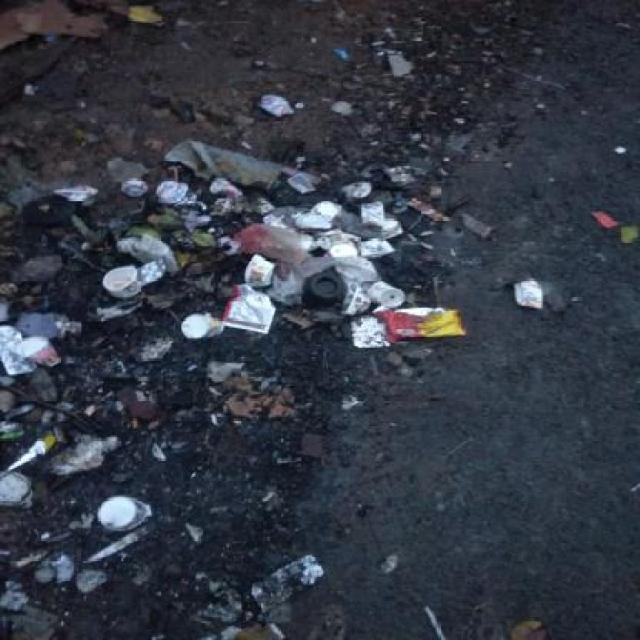garbage: (60, 86, 438, 380), (6, 389, 302, 626), (0, 0, 517, 112), (48, 391, 174, 552), (491, 263, 548, 340)
